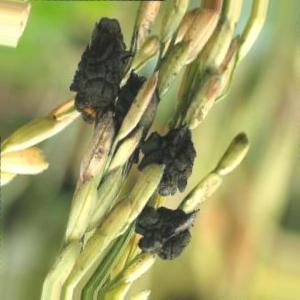False Smut: (80, 17, 128, 114), (154, 129, 195, 195), (142, 210, 187, 263)
